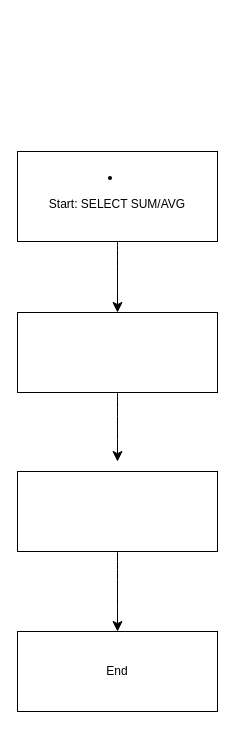
The diagram is 245 pixels wide and 729 high, and some of its shapes have lost their labels. Each missing label, with the centre of its shape:
FROM table: pixel 117 352
WHERE condition: pixel 117 511
